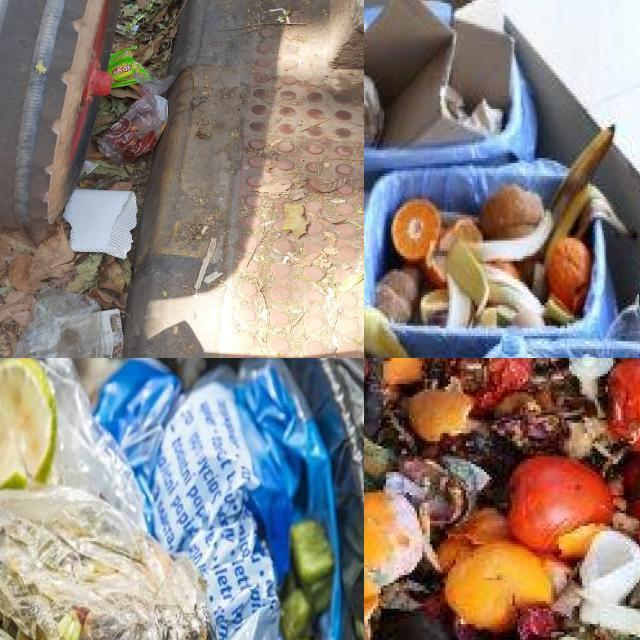Garbage: (364, 358, 640, 640), (95, 358, 341, 640), (0, 0, 180, 358), (0, 464, 215, 640), (364, 185, 575, 334), (364, 0, 513, 147), (40, 358, 143, 527), (548, 188, 623, 296), (550, 124, 614, 223), (548, 237, 592, 315), (606, 284, 640, 339)
Plastic: (39, 358, 147, 530), (497, 333, 537, 358)
Plastic_Bag: (98, 74, 175, 167), (13, 288, 100, 358)
Plastic_wraper: (109, 47, 152, 88)
contaminated_waste: (0, 487, 214, 640), (0, 487, 207, 640), (609, 284, 640, 341)
